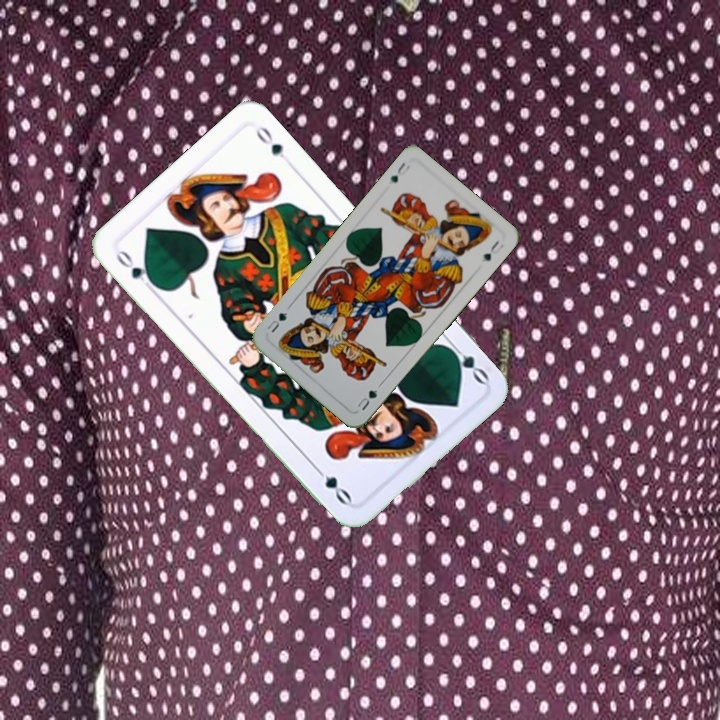GO: (441, 337, 492, 387), (111, 245, 159, 295)
GU: (353, 380, 384, 413), (385, 158, 413, 185)
